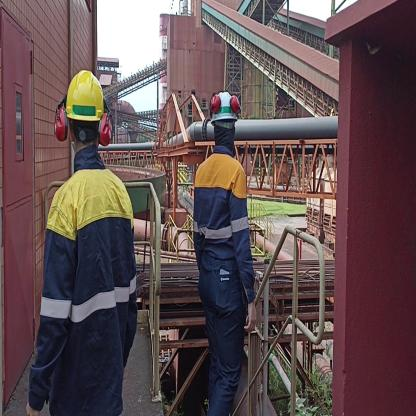Balaclava: (216, 121, 234, 152)
C_eletrica: (35, 179, 137, 407)
Capacete: (64, 67, 104, 122), (210, 89, 239, 120)
Operacional: (192, 151, 255, 300)
